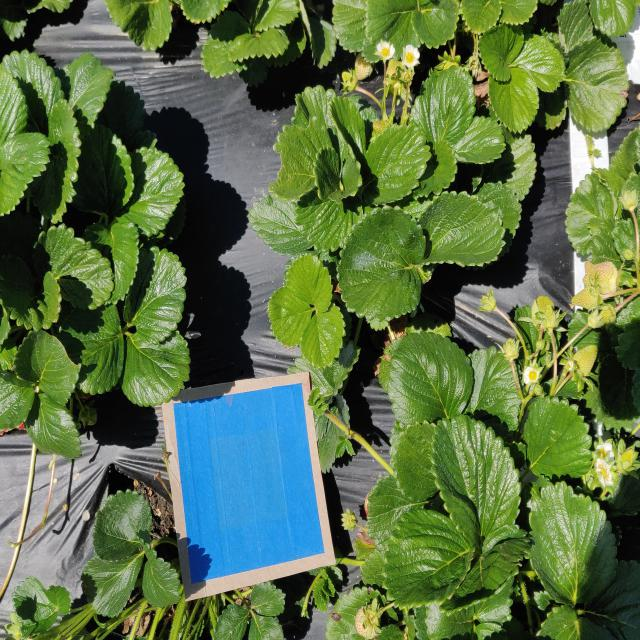Flower: (594, 457, 615, 487), (375, 39, 397, 63), (402, 42, 419, 70), (594, 442, 616, 462), (523, 364, 542, 387)
Green Strawberry: (583, 257, 619, 299), (383, 56, 413, 96), (573, 341, 601, 378), (531, 294, 560, 329), (355, 604, 381, 639), (570, 285, 602, 311), (433, 49, 462, 75), (354, 50, 374, 81), (620, 444, 638, 472), (597, 304, 619, 326), (501, 335, 520, 359), (371, 118, 394, 137), (479, 290, 496, 314), (84, 404, 100, 428), (341, 69, 357, 91)
